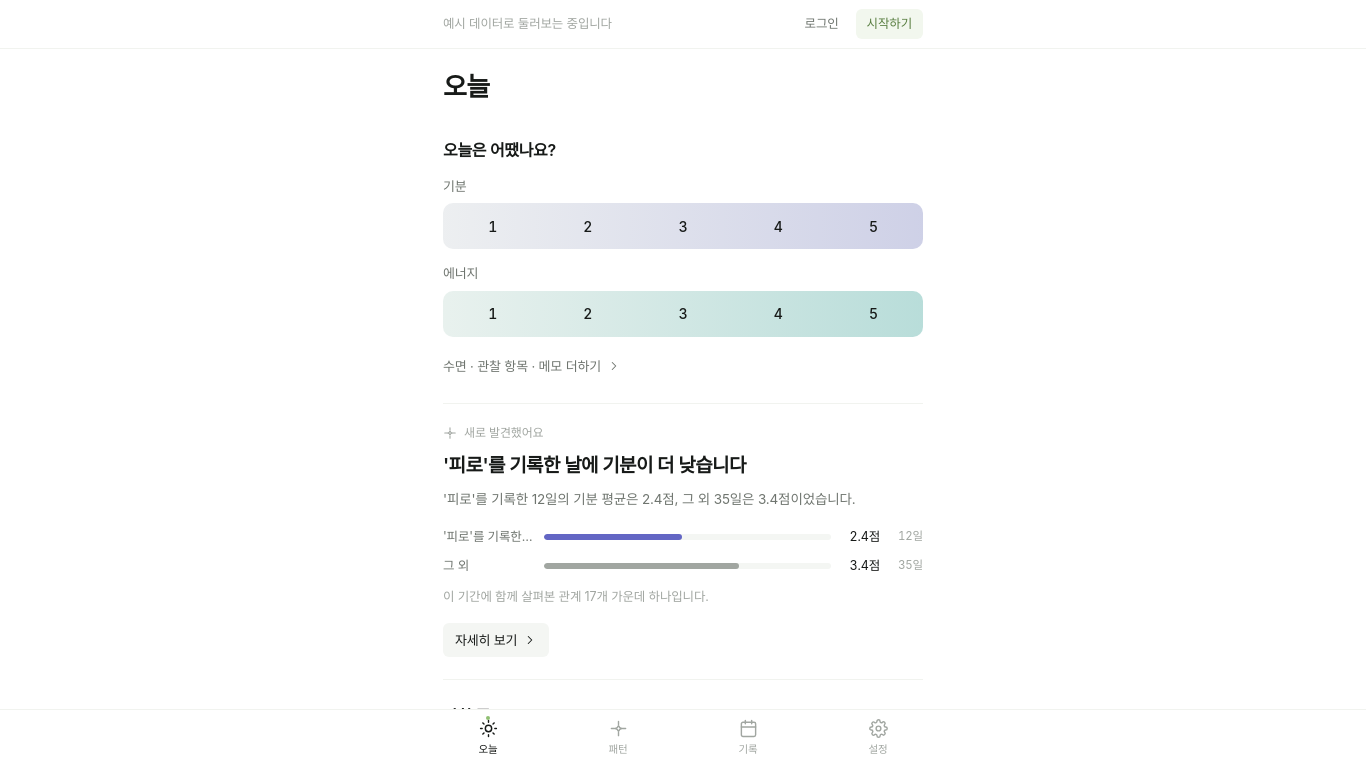
Test: 로그인·회원가입 진입 › 기록하려고 하면 가입 화면으로 넘깁니다
Check: the heading "오늘" is shown, box [443,71,489,104]
예시 화면에서는 저장이 되지 않고 가입으로 안내합니다.
Click the radio button named "기분 4 — 좋음": (778,226) [733,207,824,245]
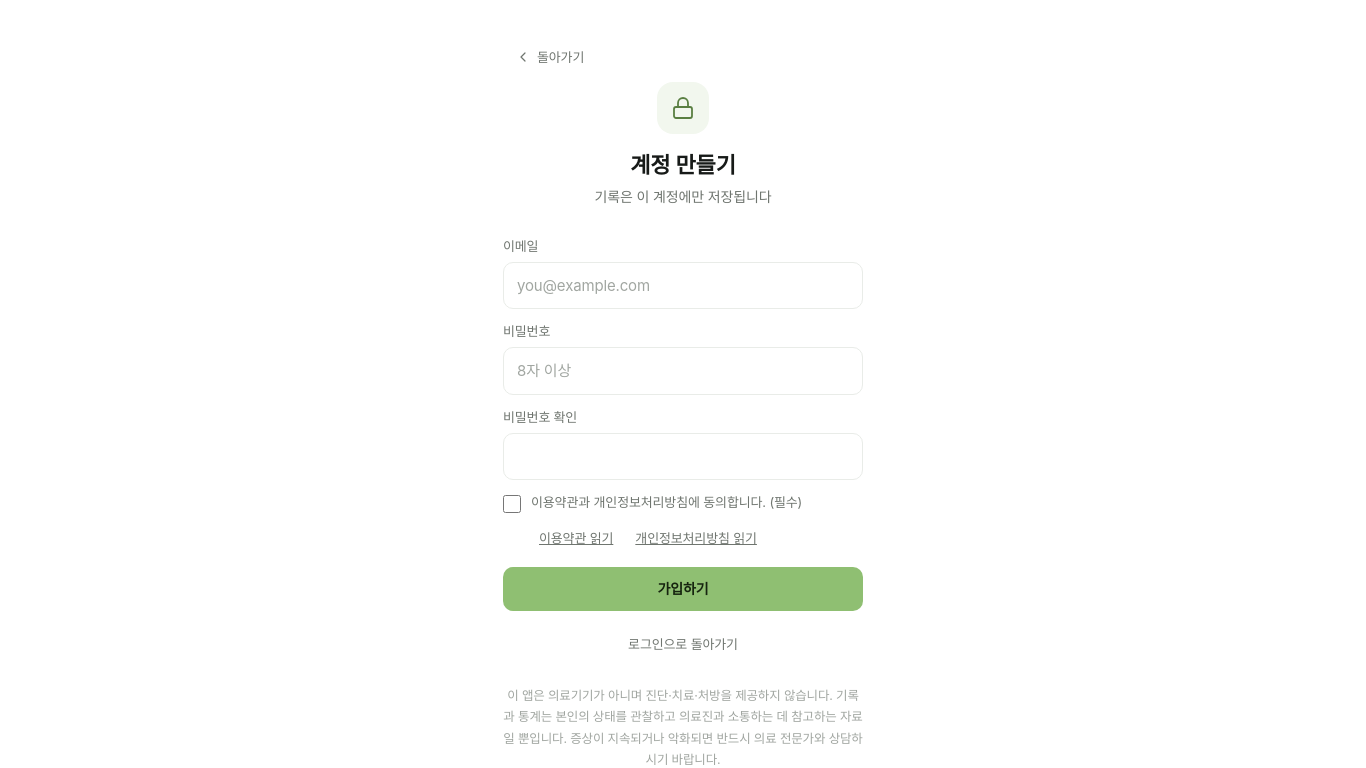
Check: the heading "계정 만들기" is shown, box [630,152,736,178]
